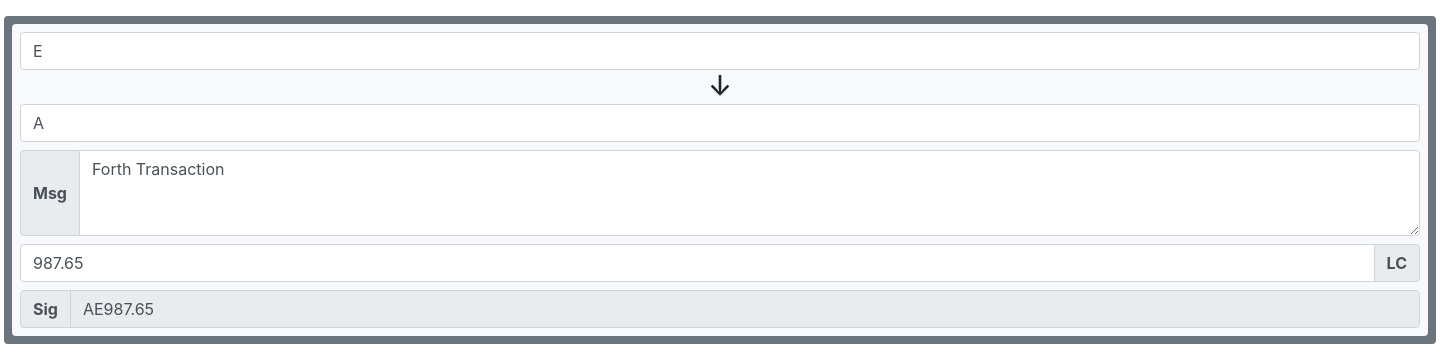
middle block › change of To input causes propagation
Type "1" into the field named "Block Transactions To". click: (720, 123)
box: [20,104,1420,142]
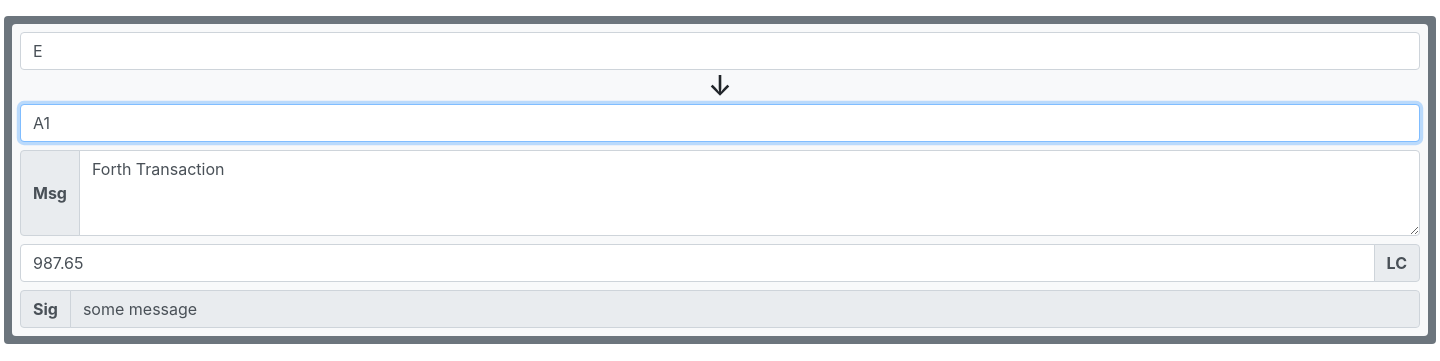
Result: the field named "Block Transactions Signature" holds "some message" at [70,290,1420,328]
